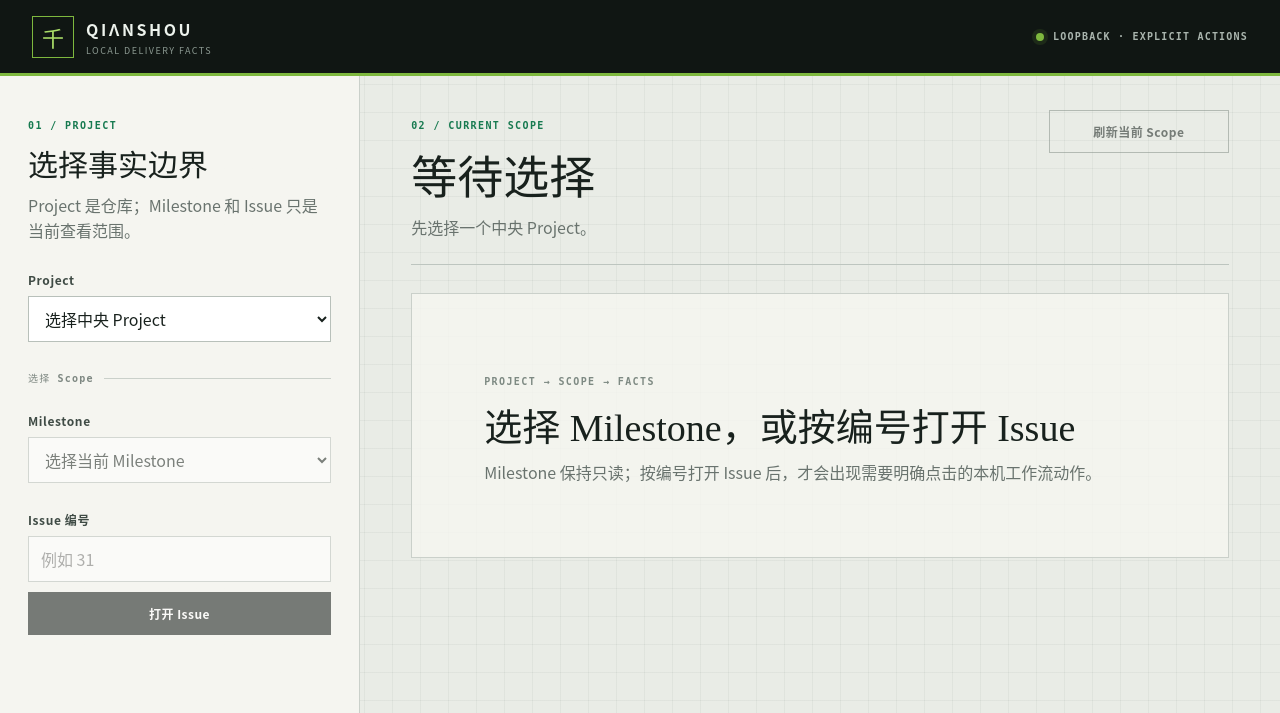
Test case: truthful dependency and failure states › preserves a plain-text request failure instead of replacing it with a fallback
Select "qianshou · ai-daming/qianshou" in the dropdown labelled "Project" at coordinates (180, 319), box [28, 296, 331, 342]
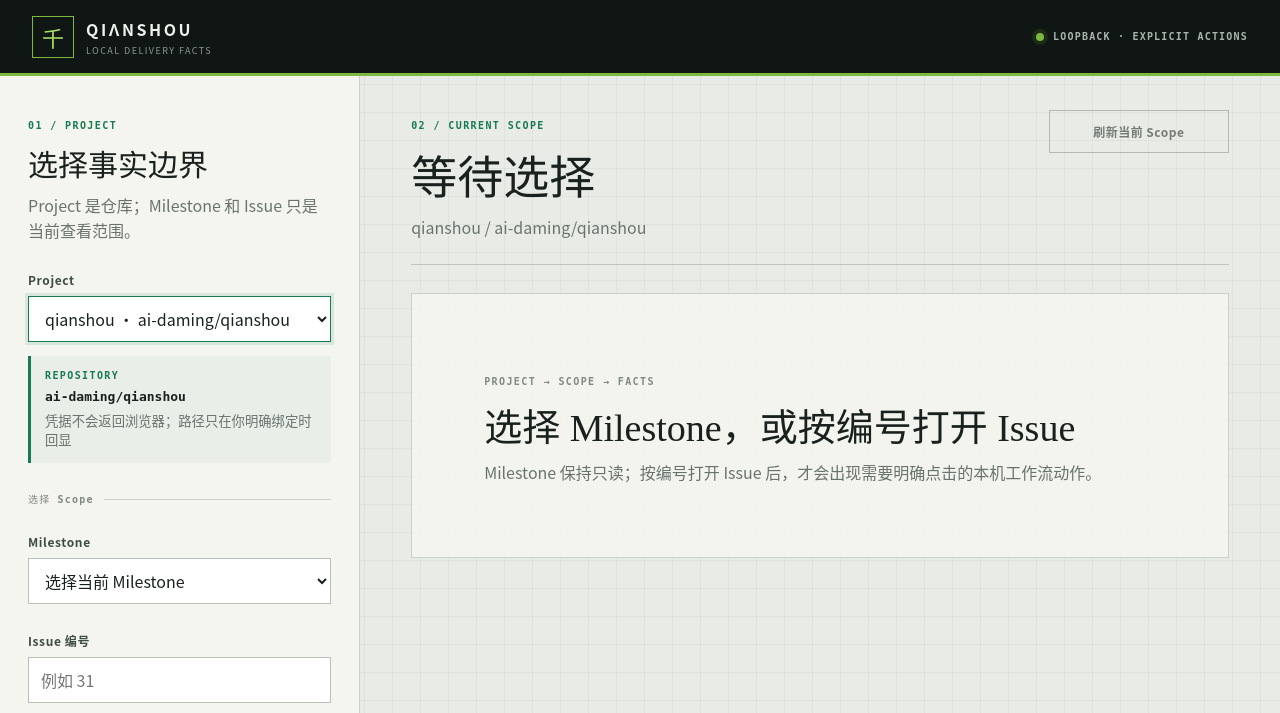
Select "#1 · Qianshou M1 · OPEN" in the dropdown labelled "Milestone" at coordinates (180, 581), box [28, 558, 331, 604]
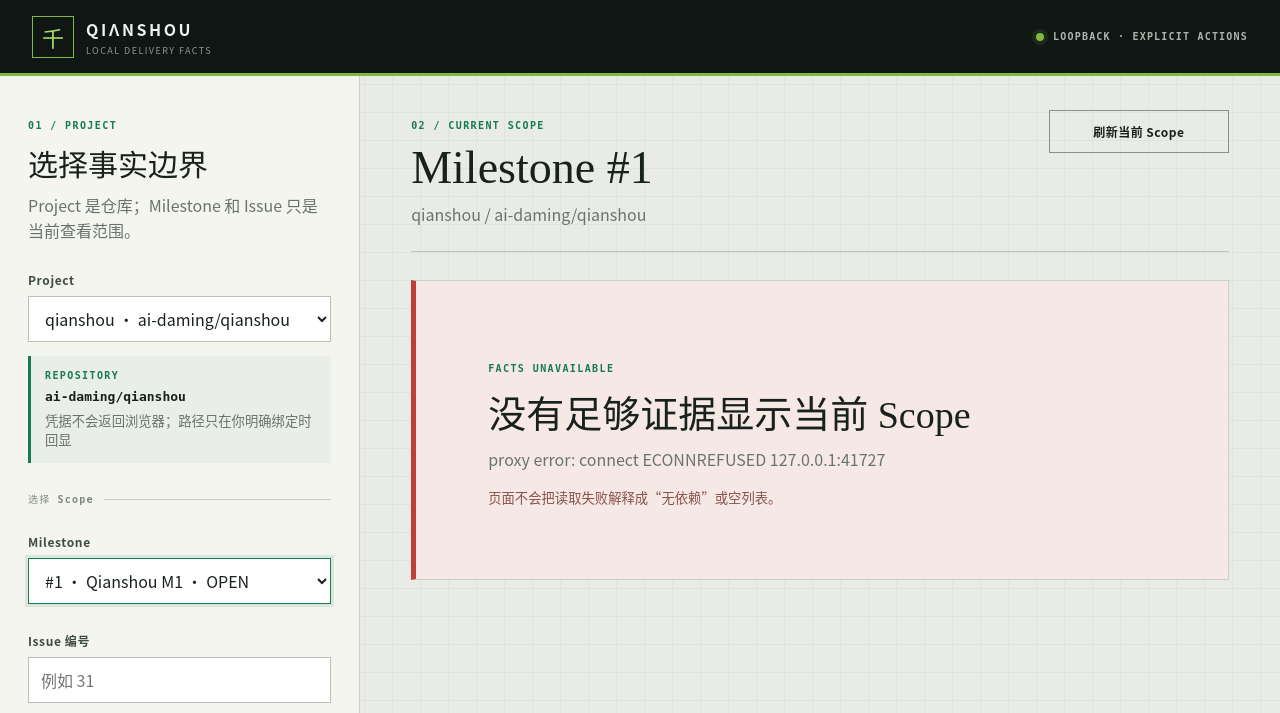
Expected: the message does not show "读取当前事实失败。", [411, 280, 1229, 580]
Now the message shows "proxy error: connect ECONNREFUSED 127.0.0.1:41727", box [488, 447, 885, 471]
